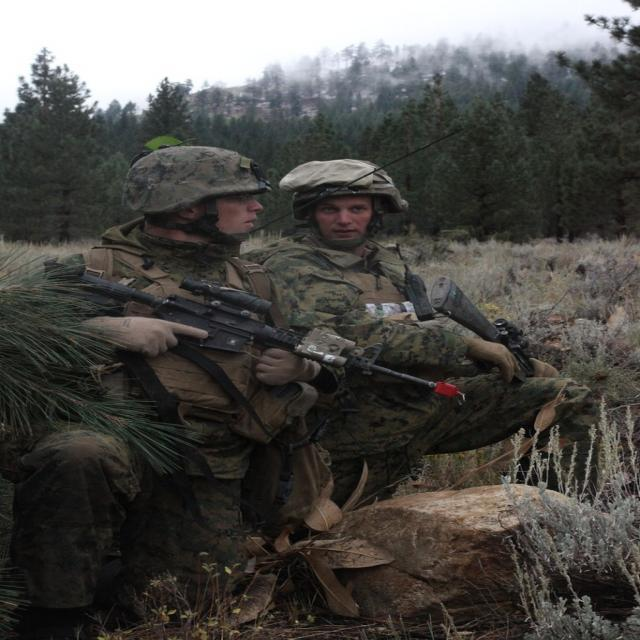weapon: (39, 264, 470, 409), (419, 271, 541, 377)
